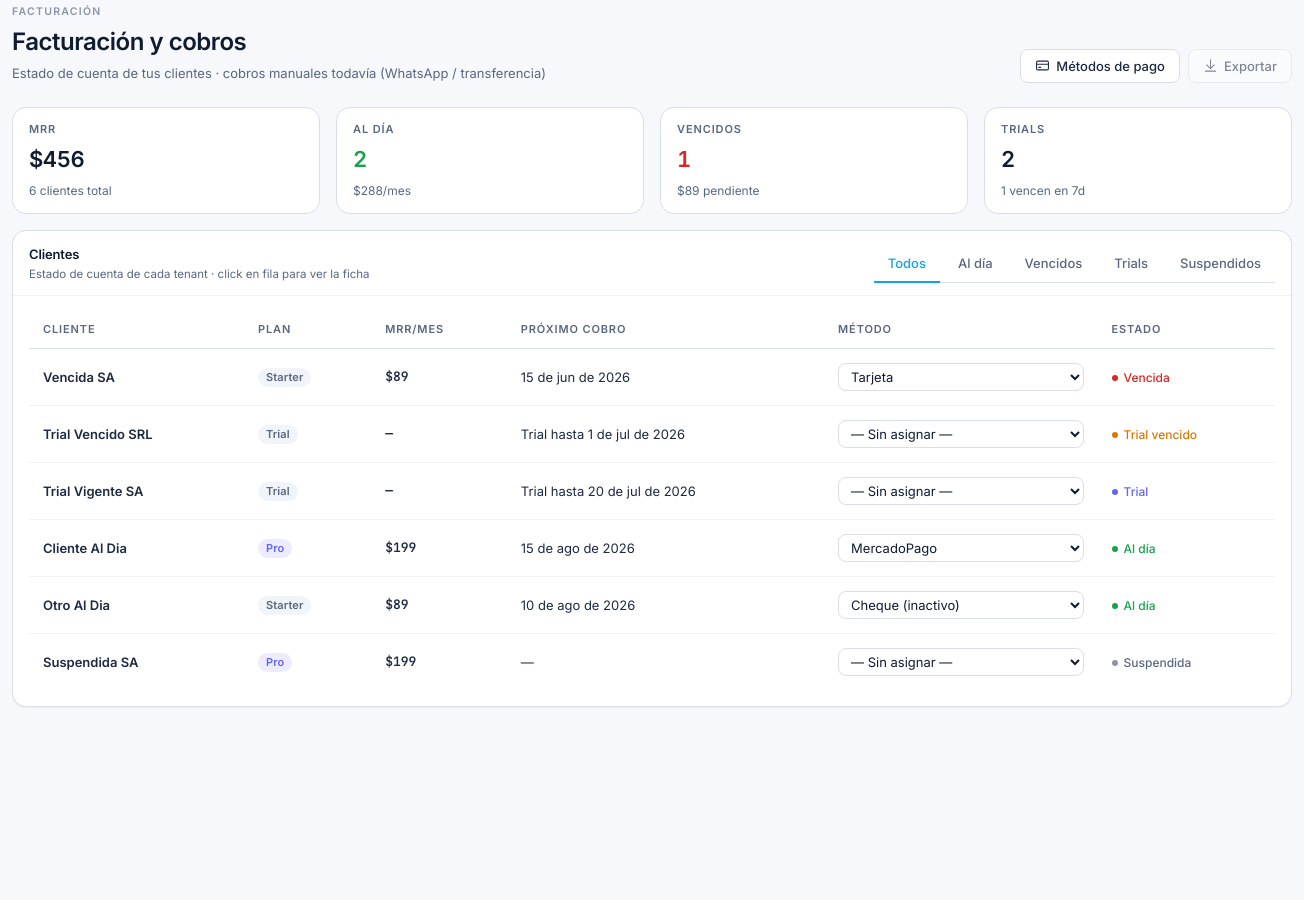
Test: Pantalla Facturación (admin) — v2 estado de cuenta › filtra por tab Vencidos (muestra vencida + sin_config)
This screenshot has width=1304, height=900.
Check: the text "Vencida SA" is shown, box [29,349,244,406]
Click the tab "Vencidos": (1053,264) [1011,245,1096,283]
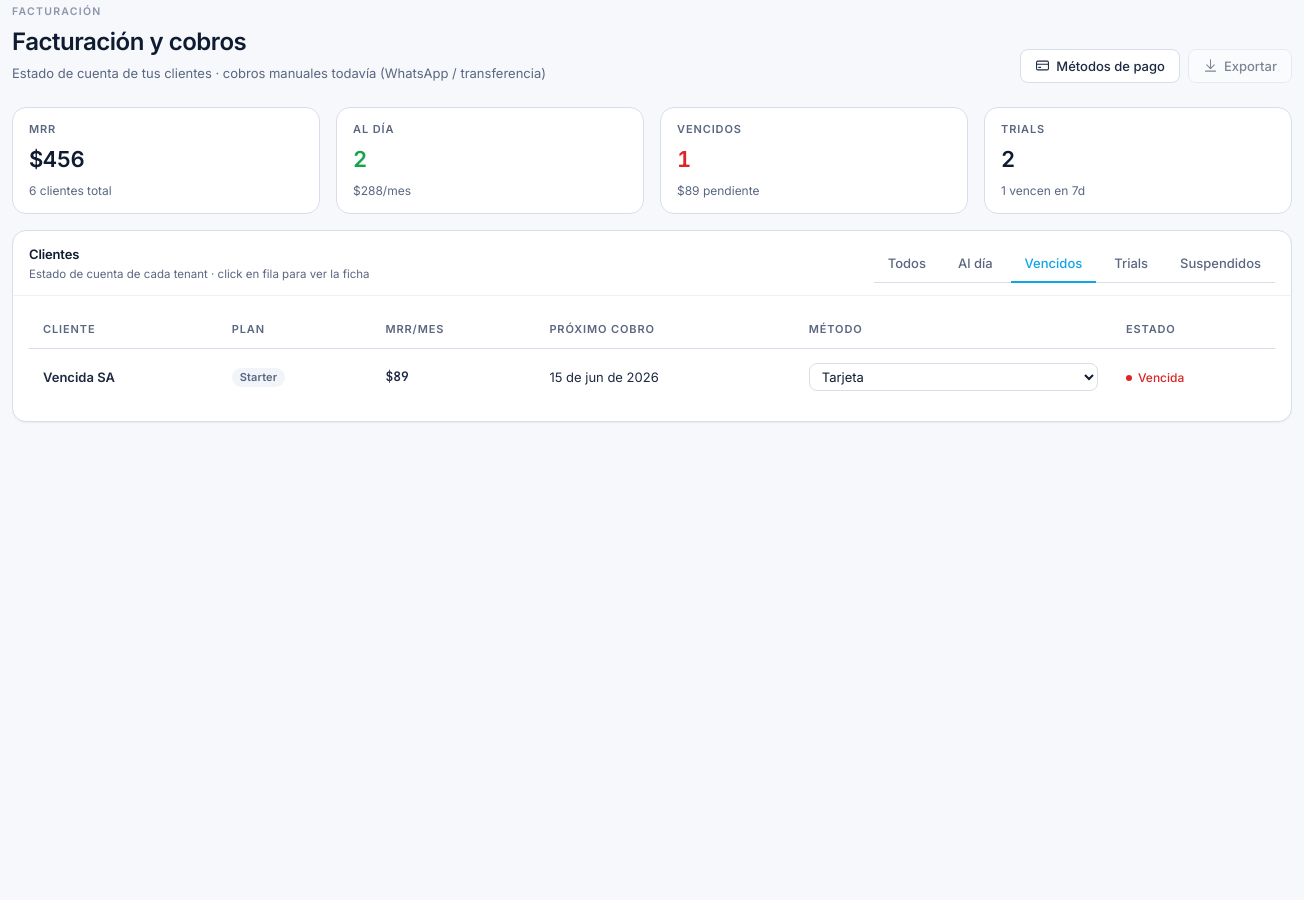
Check: the text "Cliente Al Dia" is gone
Check: the text "Trial Vigente SA" is gone
Check: the text "Suspendida SA" is gone
